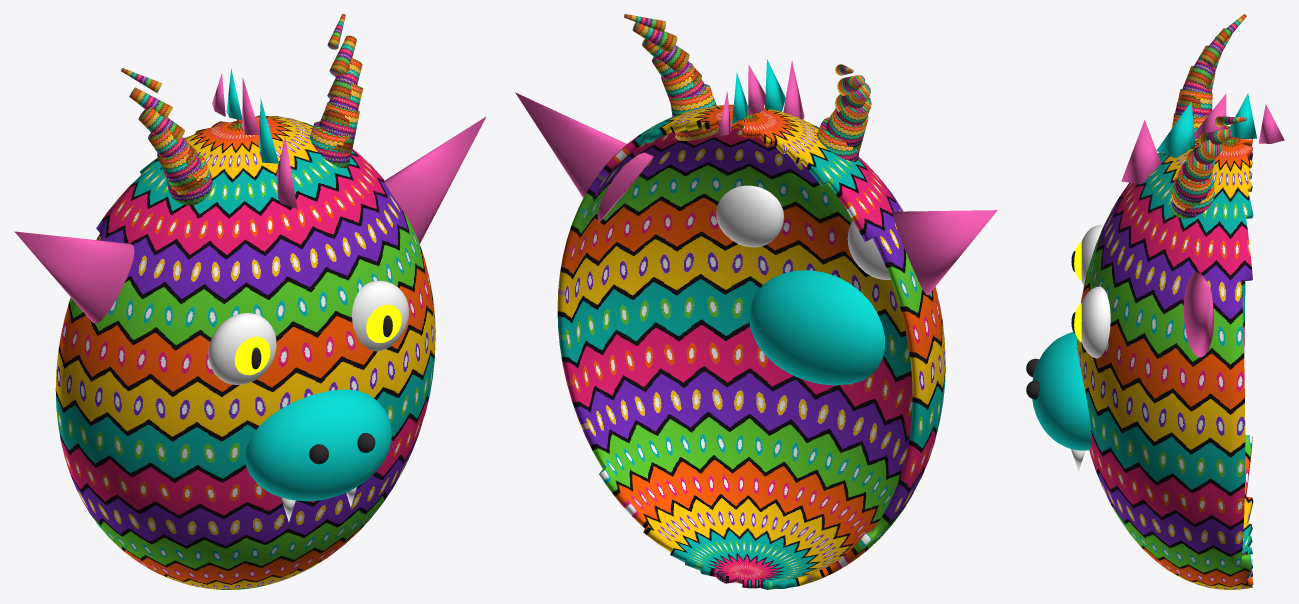
File: mascara_alebrije.glb
3 renders of one model, left to right at view 1: azimuth 30°, elevation 25°; view 2: azimuth 150°, elevation 25°; view 3: azimuth 270°, elevation 25°, orthographic. The views are drawn at different scales.
Visible parts, largest first — view 1: Casco, Hocico, OrejaMallaIzq, OrejaMallaDer, GloboIzq, GloboDer, CuernoIzq1, CuernoDer0, CuernoDer1, IrisDer, IrisIzq, CuernoIzq0 (+7 smaller); view 2: Casco, Hocico, OrejaMallaDer, OrejaMallaIzq, GloboDer, GloboIzq, CuernoDer0, CuernoIzq1, CuernoDer1, CuernoIzq0, CuernoDer3, Pua1 (+2 smaller); view 3: Casco, Hocico, OrejaMallaDer, GloboDer, Pua0, Pua1, CuernoDer1, Pua3, GloboIzq, CuernoIzq1, CuernoDer2, CuernoIzq3 (+7 smaller).
Part boxes in pixels (bbox=[...]): Casco: bbox=[55, 115, 435, 589]; Hocico: bbox=[245, 389, 391, 501]; OrejaMallaIzq: bbox=[14, 231, 134, 323]; OrejaMallaDer: bbox=[384, 116, 486, 243]; GloboIzq: bbox=[208, 313, 276, 384]; GloboDer: bbox=[352, 280, 408, 351]; CuernoIzq1: bbox=[157, 139, 208, 194]; CuernoDer0: bbox=[309, 121, 350, 168]; CuernoDer1: bbox=[319, 102, 359, 153]; IrisDer: bbox=[366, 304, 401, 342]; IrisIzq: bbox=[234, 336, 270, 375]; CuernoIzq0: bbox=[167, 154, 212, 205]; Casco: bbox=[557, 104, 945, 589]; Hocico: bbox=[749, 270, 884, 385]; OrejaMallaDer: bbox=[515, 92, 653, 222]; OrejaMallaIzq: bbox=[893, 210, 997, 295]; GloboDer: bbox=[716, 185, 783, 247]; GloboIzq: bbox=[847, 220, 890, 279]; CuernoDer0: bbox=[670, 84, 718, 140]; CuernoIzq1: bbox=[826, 108, 868, 151]; CuernoDer1: bbox=[661, 63, 705, 102]; CuernoIzq0: bbox=[817, 117, 859, 161]; CuernoDer3: bbox=[642, 39, 689, 73]; Pua1: bbox=[765, 59, 785, 111]; Casco: bbox=[1077, 126, 1253, 589]; Hocico: bbox=[1032, 332, 1091, 450]; OrejaMallaDer: bbox=[1183, 272, 1213, 357]; GloboDer: bbox=[1081, 286, 1110, 358]; Pua0: bbox=[1121, 120, 1161, 184]; Pua1: bbox=[1156, 101, 1195, 158]; CuernoDer1: bbox=[1171, 161, 1212, 210]; Pua3: bbox=[1229, 93, 1256, 138]; GloboIzq: bbox=[1081, 225, 1103, 285]; CuernoIzq1: bbox=[1171, 89, 1212, 128]; CuernoDer2: bbox=[1176, 152, 1215, 181]; CuernoIzq3: bbox=[1185, 45, 1221, 89].
Size of the model in its own units: 24.45 by 26.29 by 12.11.
Materials: 7 (2 with a texture image).
